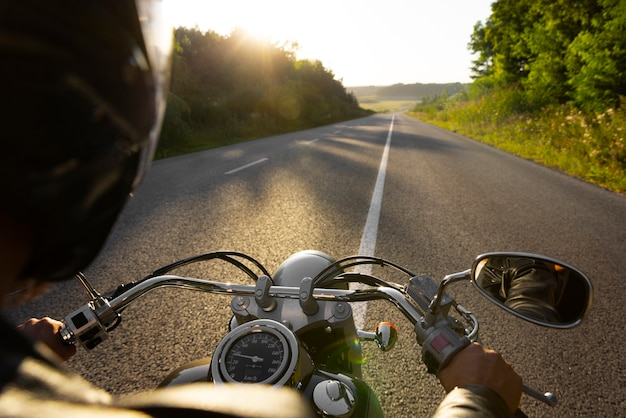Motorcycle: (56, 244, 604, 404)
